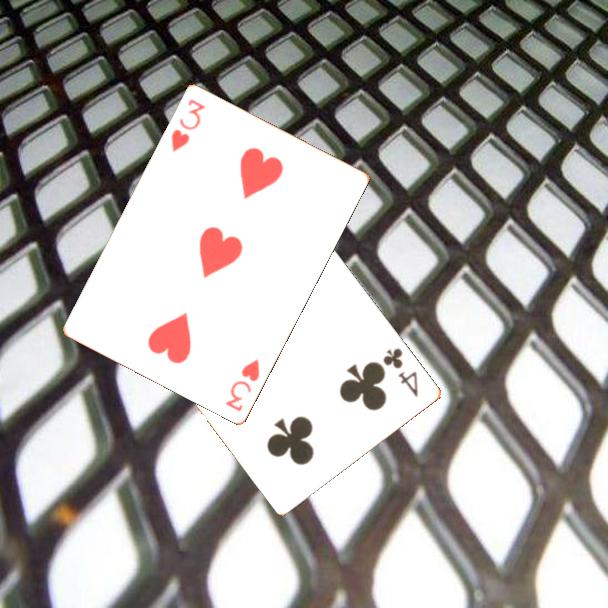c04: (380, 344, 422, 400)
h03: (221, 355, 263, 414), (167, 95, 208, 155)
